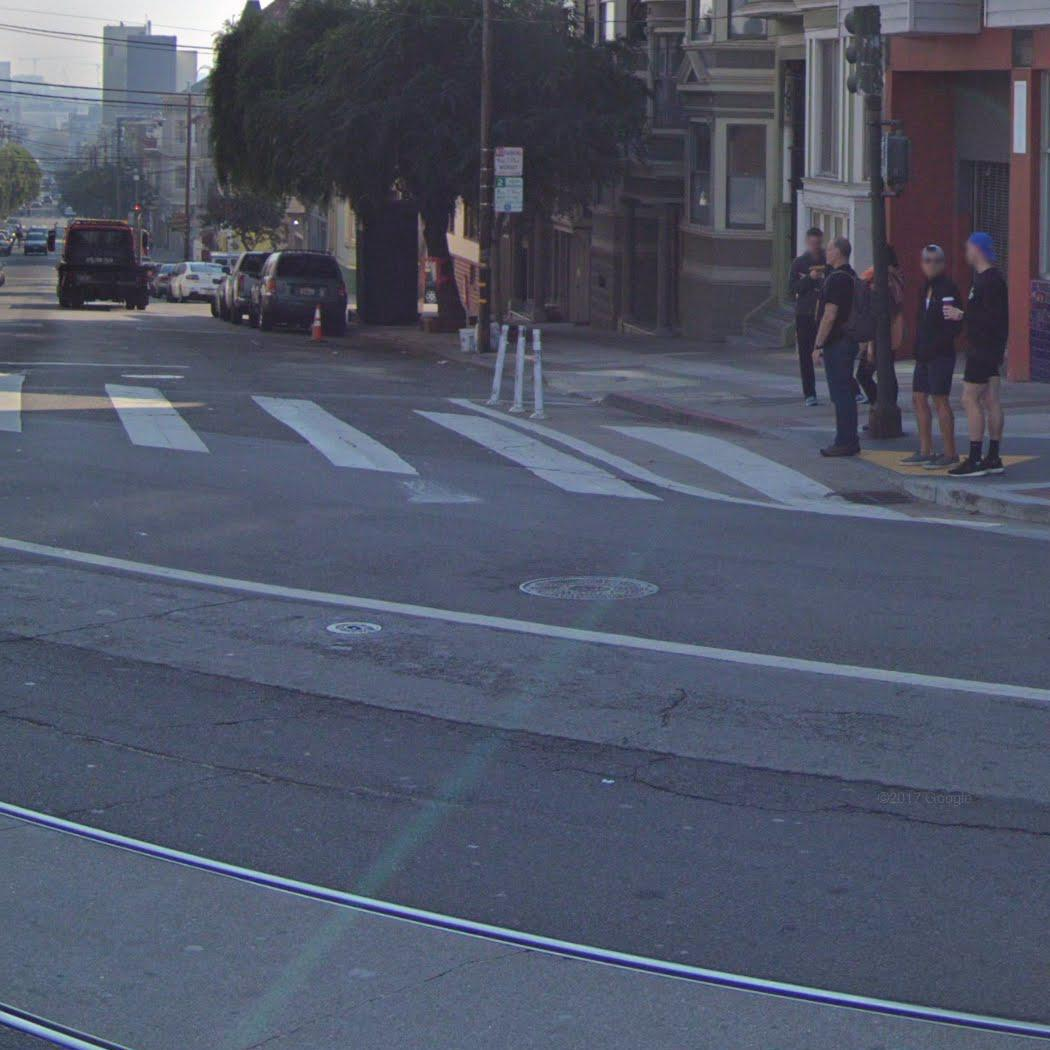2 Hour Parking: (494, 146, 526, 178)
No Parking: (493, 179, 524, 215)
